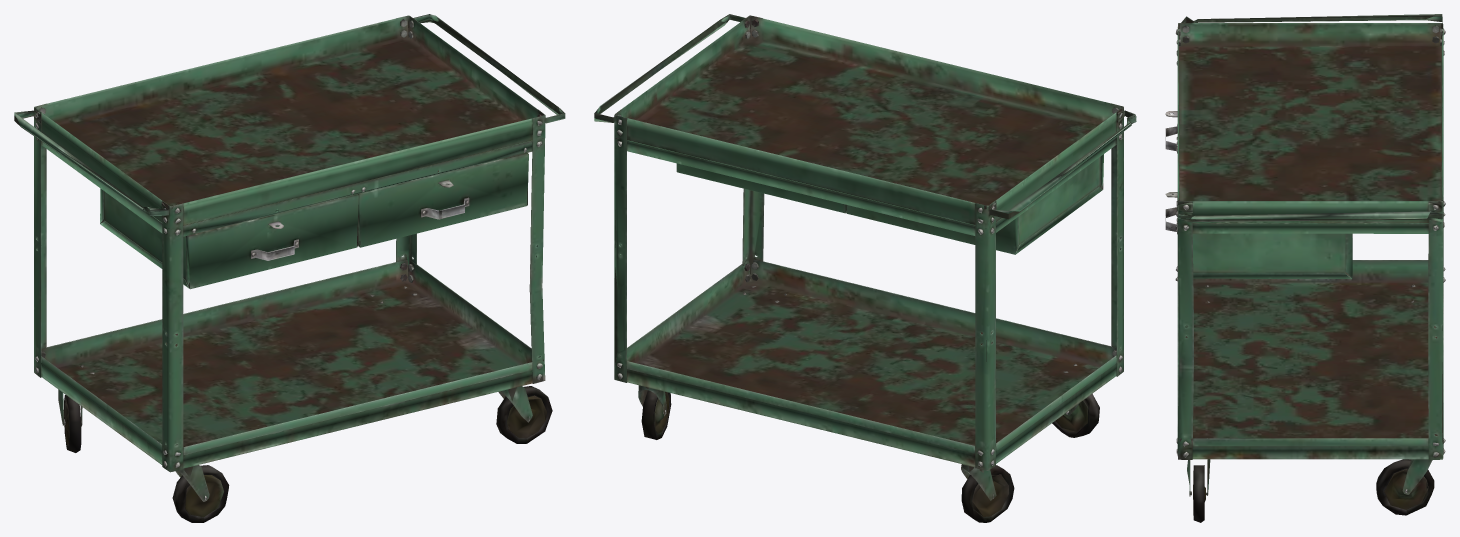
The model's file is tool_cart.glb.
3 views of the same model, side by side, from view 1: azimuth 30°, elevation 25°; view 2: azimuth 150°, elevation 25°; view 3: azimuth 270°, elevation 25° (orthographic). The views are drawn at different scales.
Visible parts, largest first — view 1: tool_cart; view 2: tool_cart; view 3: tool_cart.
Boxes of the visible parts, <box> form: tool_cart: <box>14,14,565,522</box>; tool_cart: <box>594,14,1136,522</box>; tool_cart: <box>1165,14,1445,522</box>.
Bounding box in the file's own units: 1.27 × 0.962 × 0.7525.
Materials: 1 (1 with a texture image).
